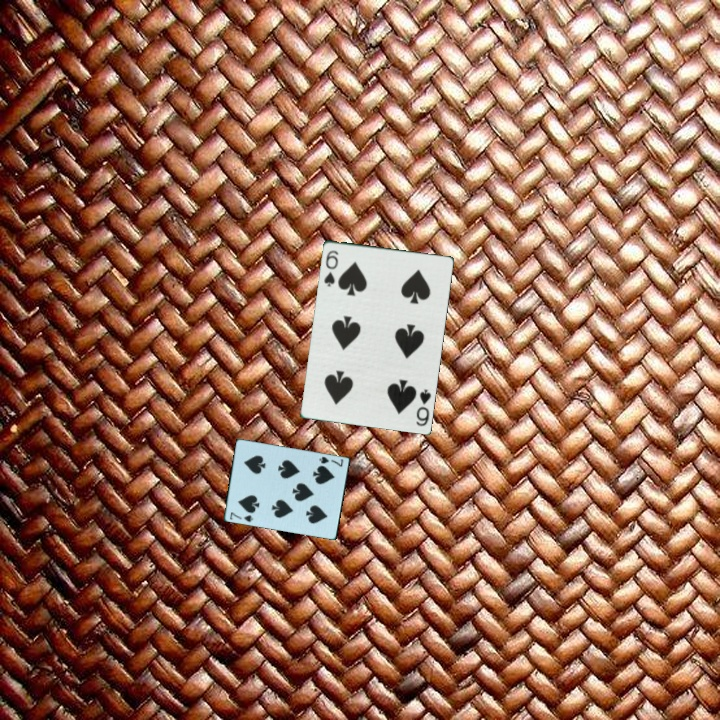6s: (412, 385, 434, 429), (320, 247, 341, 289)
7s: (316, 453, 346, 470), (226, 509, 256, 525)
